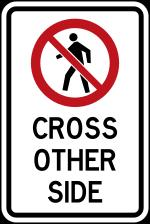Pedestrian Prohibited: (25, 16, 128, 113)
